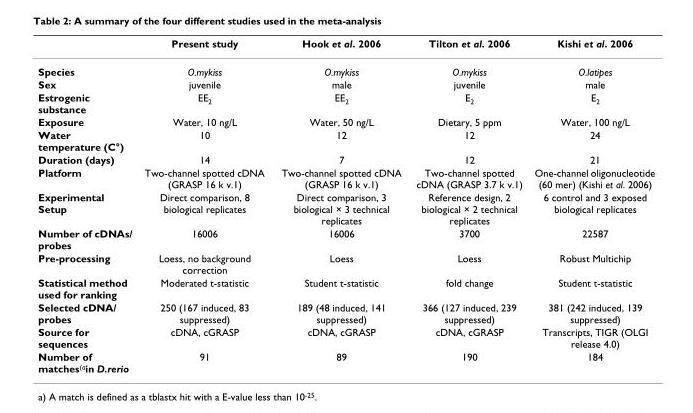table: (37, 36, 654, 373)
table column: (272, 36, 408, 373), (137, 36, 272, 373), (527, 36, 654, 373), (408, 36, 527, 373), (37, 36, 137, 373)
table column header: (37, 36, 654, 56)
table row: (37, 190, 654, 226), (37, 90, 654, 115), (37, 127, 654, 152), (37, 165, 654, 190), (37, 226, 654, 251), (37, 275, 654, 300), (37, 324, 654, 349), (37, 251, 654, 275), (37, 300, 654, 324), (37, 349, 654, 373), (37, 56, 654, 77), (37, 36, 654, 56), (37, 77, 654, 90), (37, 152, 654, 165), (37, 115, 654, 127)
